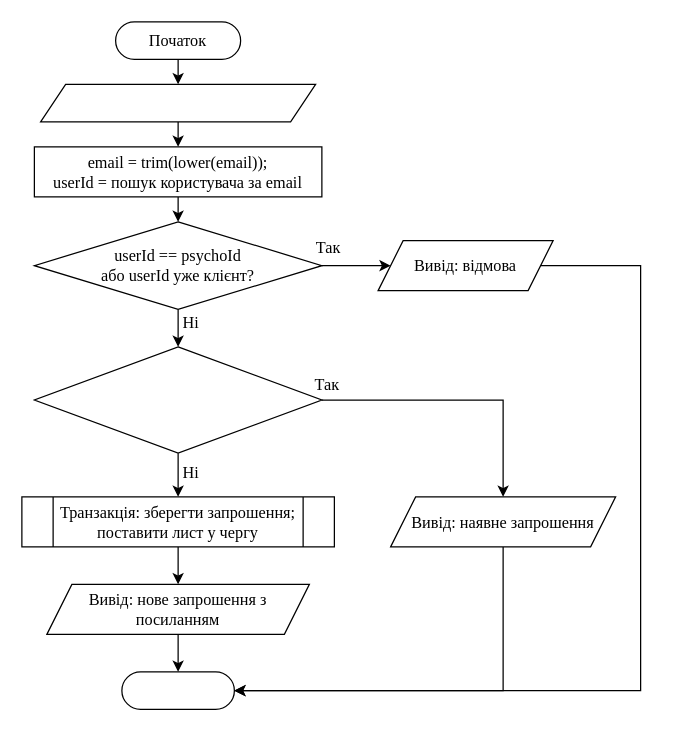
The diagram is 673 pixels wide and 731 high, and some of its shapes have lost their labels. Each missing label, with the centre of its shape:
Ввід: psychoId, email: pixel 177 102
Кінець: pixel 177 690
Є відкладене запрошення для psychoId та email?: pixel 177 399
